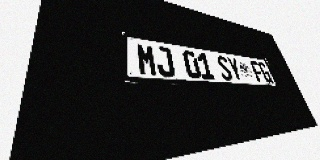0: (182, 50, 202, 79)
1: (195, 52, 215, 80)
F: (249, 60, 266, 83)
G: (257, 62, 273, 83)
J: (154, 46, 176, 77)
M: (136, 43, 158, 76)
S: (215, 55, 234, 81)
Y: (226, 57, 244, 81)
